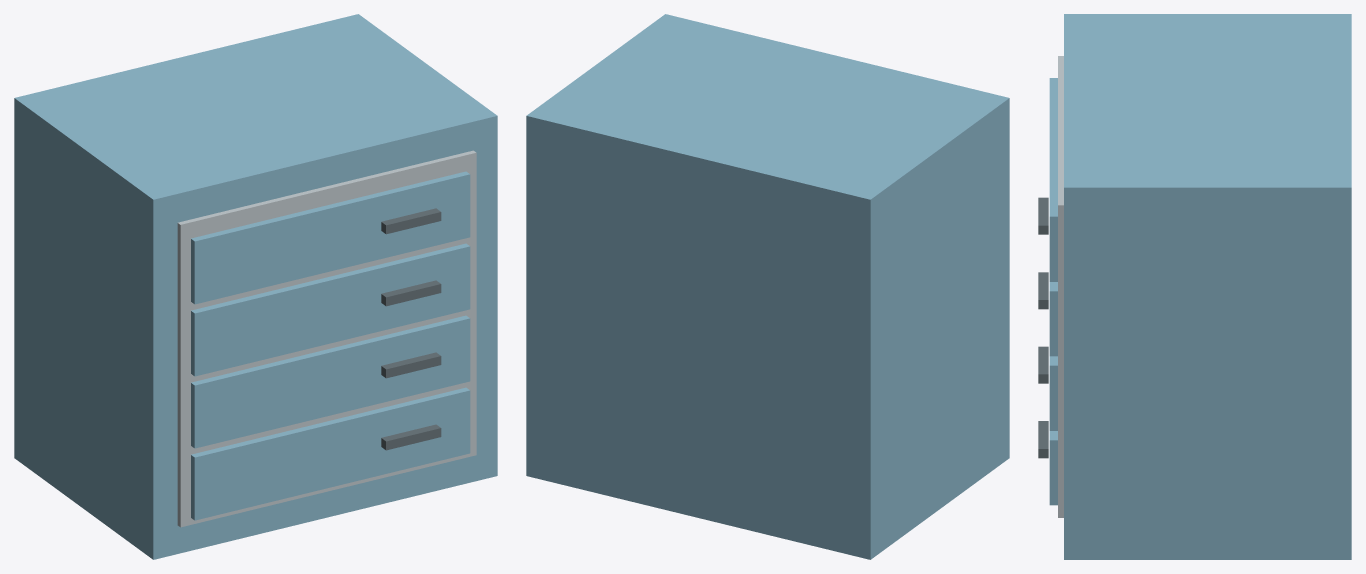
File: tool_cabinet.glb
3 renders of one model, left to right at view 1: azimuth 30°, elevation 25°; view 2: azimuth 150°, elevation 25°; view 3: azimuth 270°, elevation 25°, orthographic. The views are drawn at different scales.
Size of the model in its own units: 1 by 1 by 0.7625.
